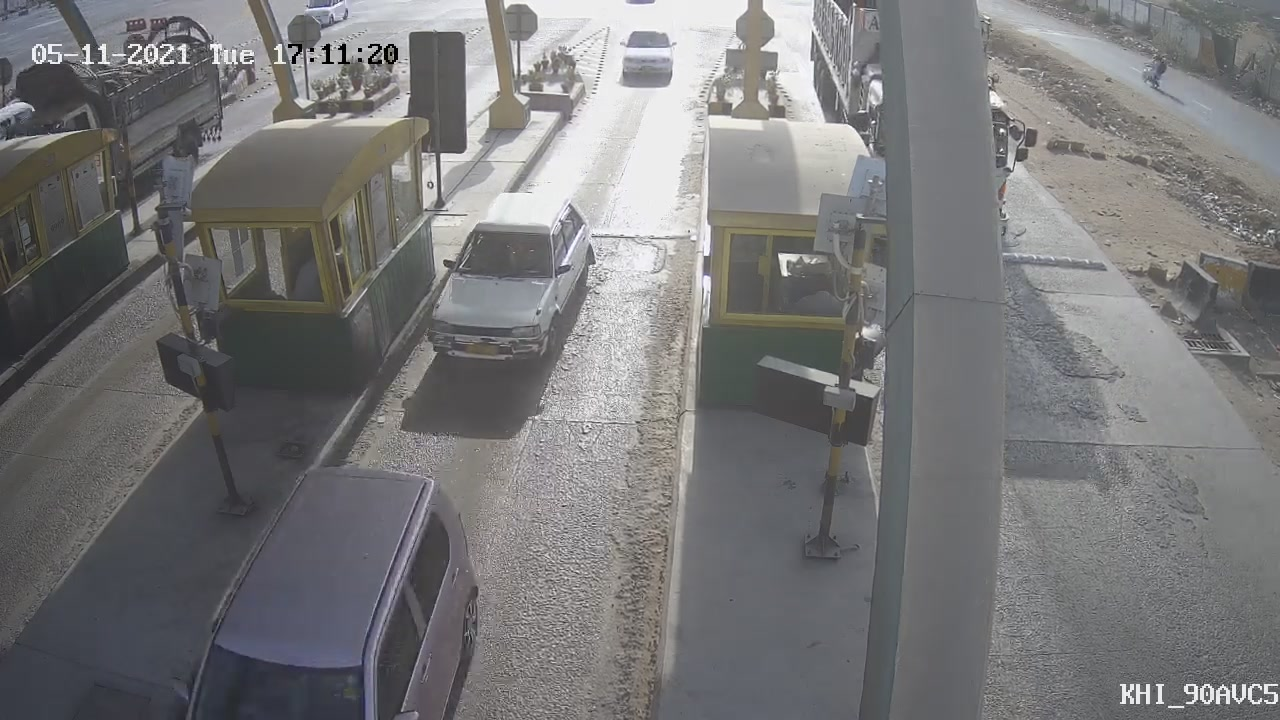F1: (407, 179, 609, 383)
